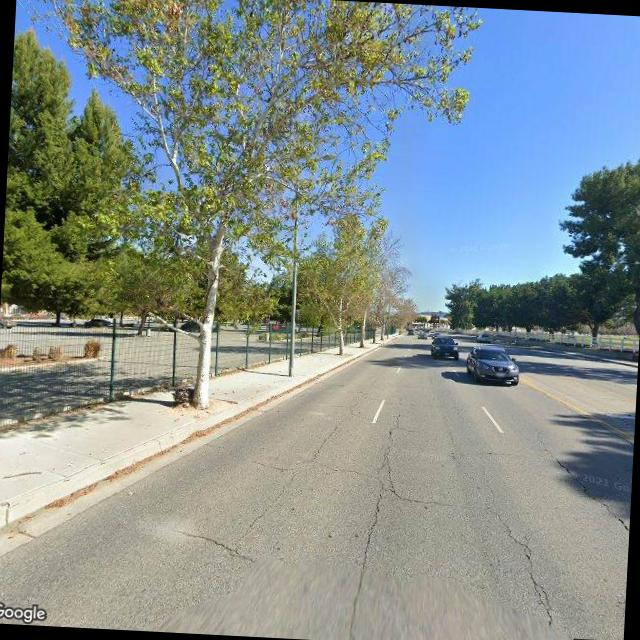crack: (533, 438, 633, 560), (476, 500, 564, 630), (358, 408, 402, 568), (234, 473, 294, 547), (306, 388, 364, 464), (174, 528, 254, 564), (390, 486, 488, 512), (313, 459, 374, 477)
